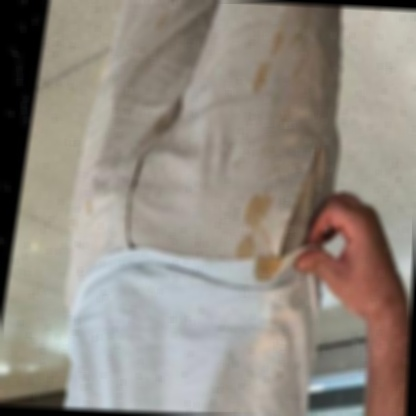coffee: (254, 257, 283, 283), (247, 195, 269, 225), (238, 235, 256, 260), (253, 64, 268, 90), (273, 32, 281, 51)
